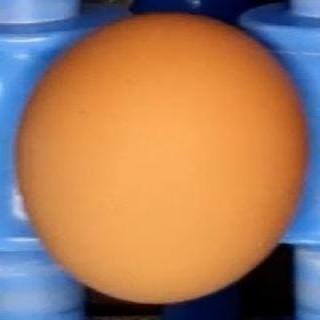Telur: (8, 10, 314, 306)
